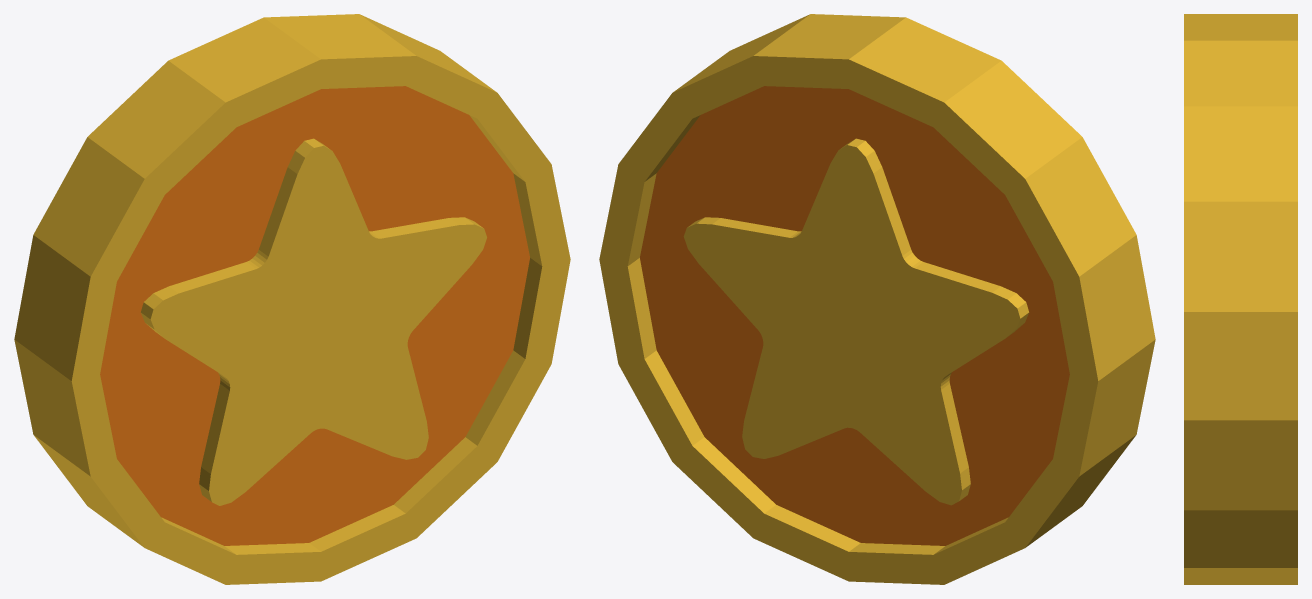
File: Coin_Star.fbx
3 views of the same model, side by side, from view 1: azimuth 30°, elevation 25°; view 2: azimuth 150°, elevation 25°; view 3: azimuth 270°, elevation 25° (orthographic).
Parts seen in each view (by area): view 1: StarCoin; view 2: StarCoin; view 3: StarCoin.
Part boxes in pixels (left/top/right/bottom): StarCoin: left=14, top=14, right=570, bottom=584; StarCoin: left=599, top=14, right=1155, bottom=584; StarCoin: left=1184, top=14, right=1297, bottom=584.
Size of the model in its own units: 84.1 by 84.1 by 16.74.
